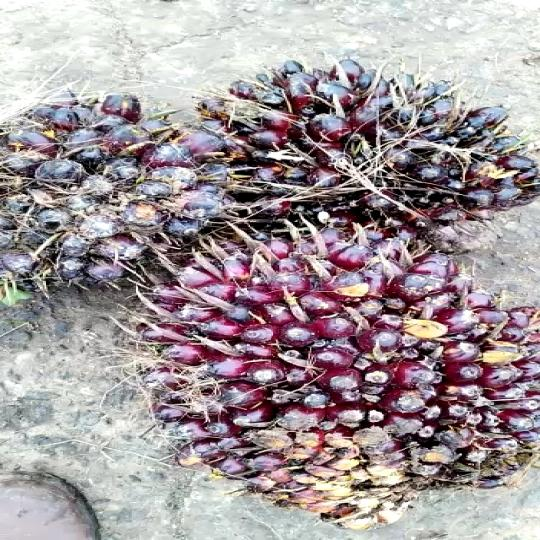kurang masak: (107, 214, 540, 525), (197, 60, 540, 261), (0, 93, 268, 308)
